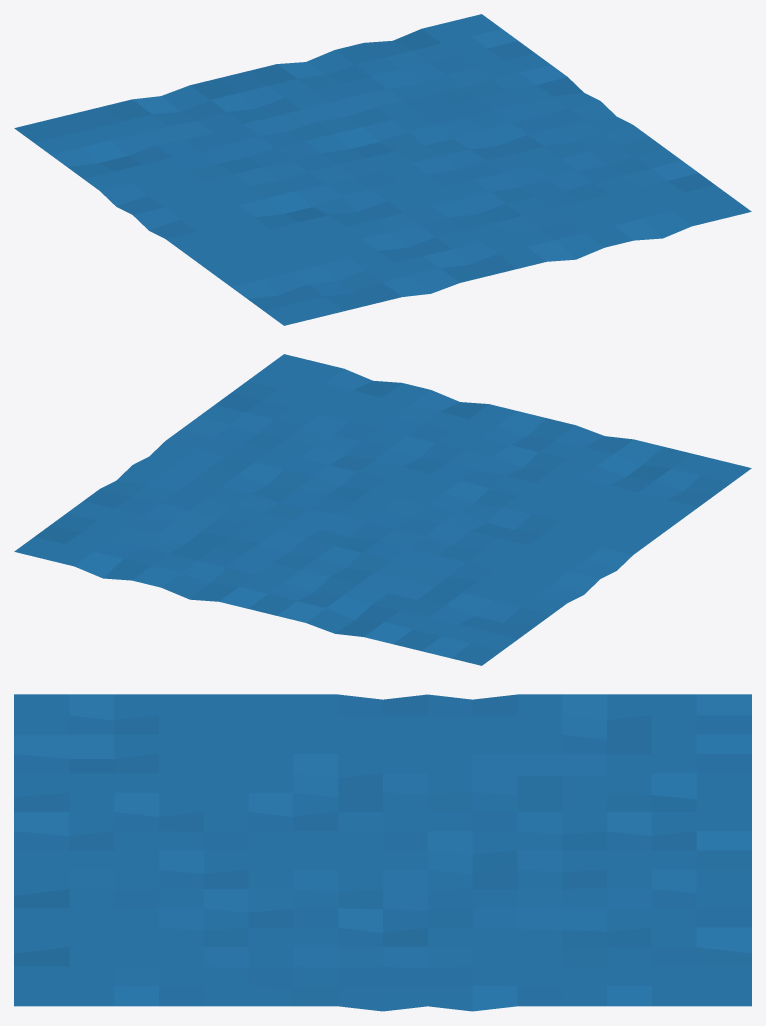
Rendered from model_polytope_water_01.fbx.
The picture shows the model from 3 angles, top to bottom: view 1: azimuth 30°, elevation 25°; view 2: azimuth 150°, elevation 25°; view 3: azimuth 270°, elevation 25°; orthographic projection. The views are drawn at different scales.
Parts seen in each view (by area): view 1: model_polytope_water_01; view 2: model_polytope_water_01; view 3: model_polytope_water_01.
Part boxes in pixels (bbox=[...]): model_polytope_water_01: bbox=[14, 14, 751, 325]; model_polytope_water_01: bbox=[14, 354, 751, 665]; model_polytope_water_01: bbox=[14, 694, 751, 1011].
Bounding box in the file's own units: 2400 × 30.18 × 2400.
1 material, 1 textured.
